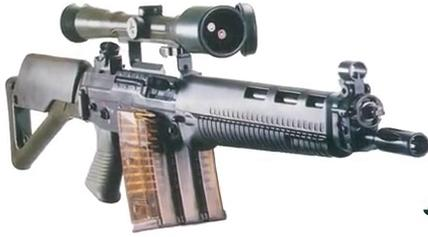gun: (1, 1, 428, 237)
